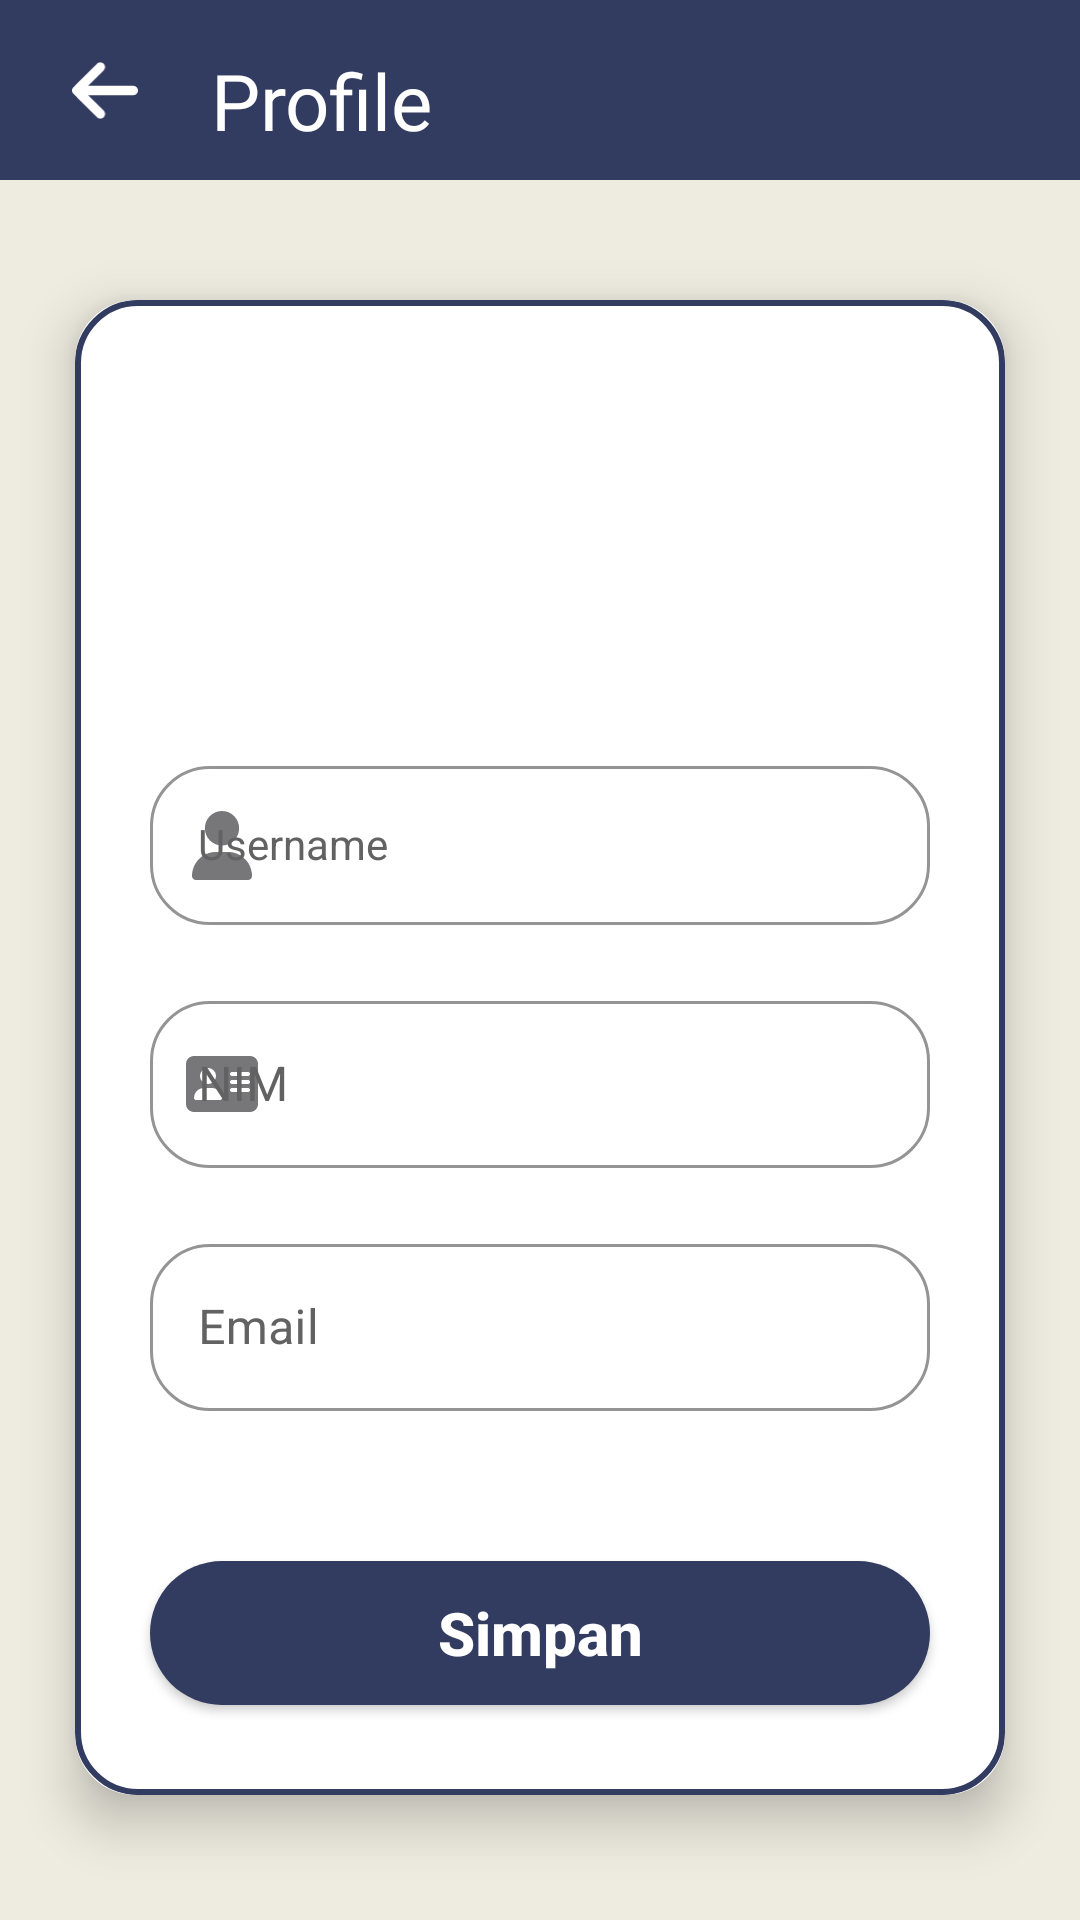

Point at icon controls on the screen. Image size 1080px×1920px, points as point (x, y).
arrow left: point (105, 90)
